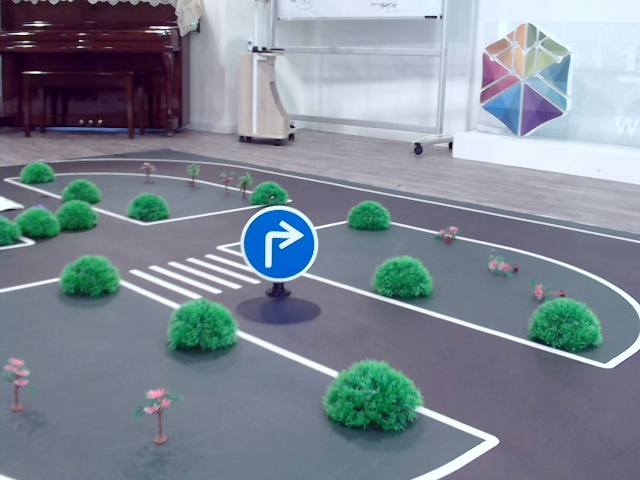turn_right: (256, 217, 306, 267)
